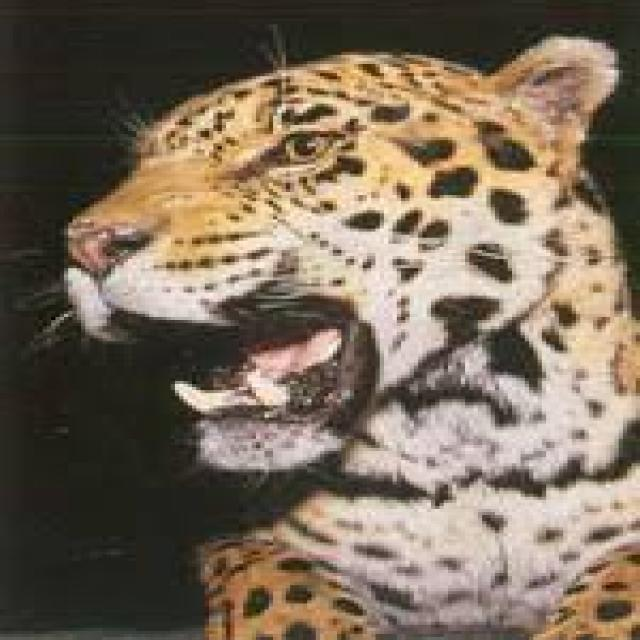Jaguar: (59, 27, 640, 639)
